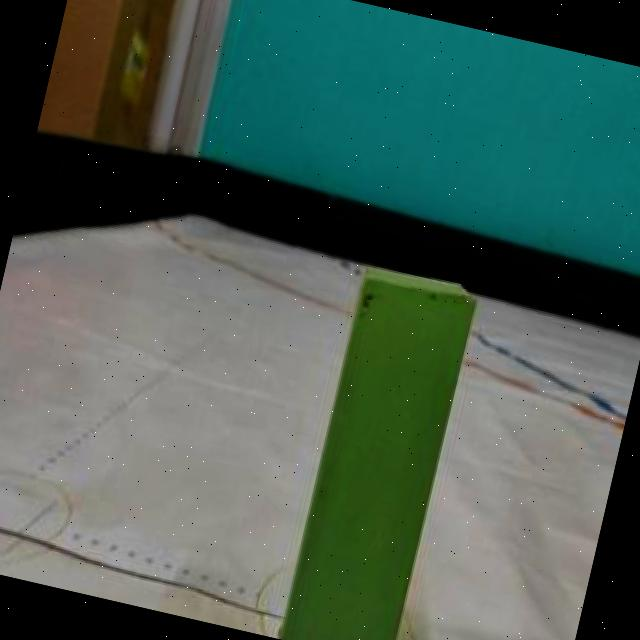greenbox: (271, 257, 480, 640)
